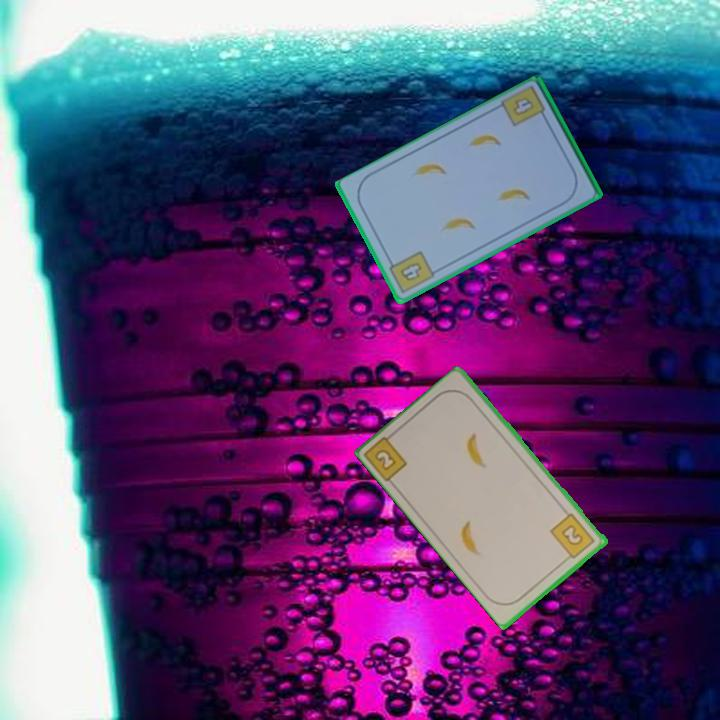2b: (363, 427, 411, 485), (547, 510, 598, 563)
4b: (384, 247, 437, 296), (509, 93, 537, 119)
